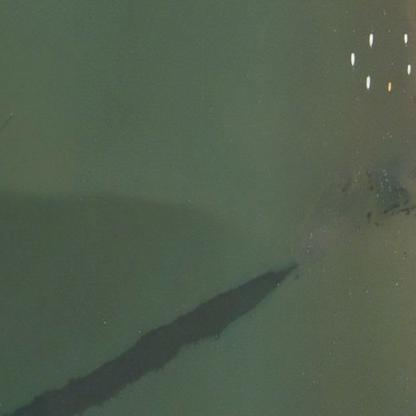ship: (402, 58, 414, 80), (360, 73, 374, 91), (346, 49, 358, 68), (397, 31, 412, 46), (365, 27, 375, 48), (383, 78, 394, 94)
